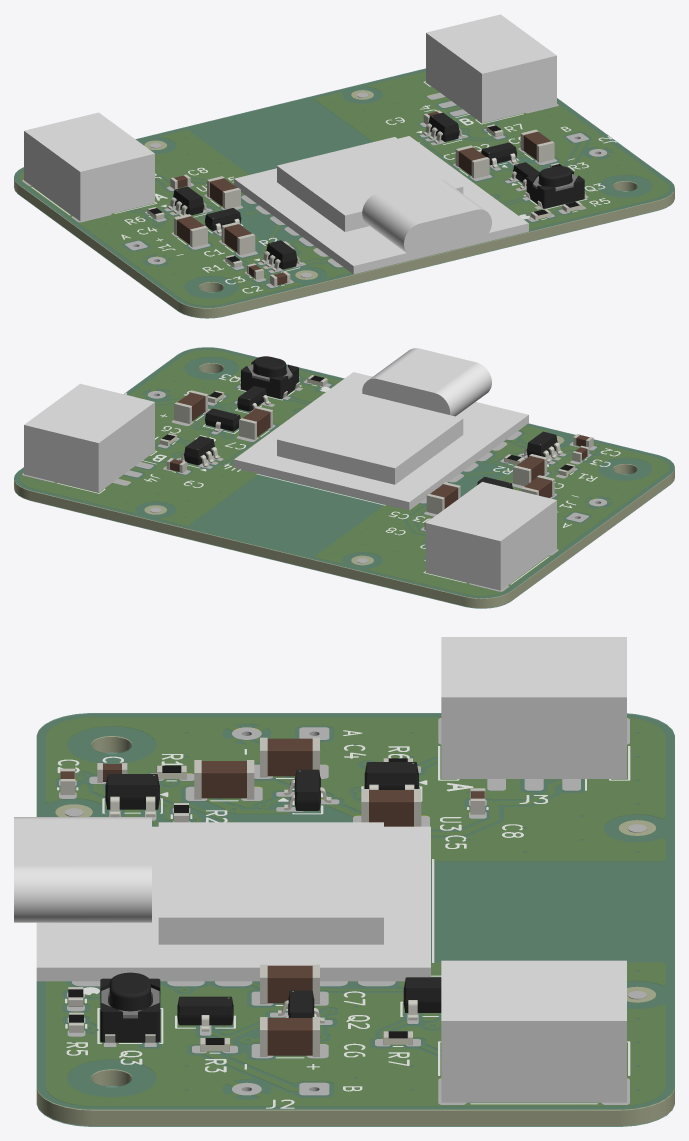
Rendered from board.glb.
The picture shows the model from 3 angles, top to bottom: view 1: azimuth 30°, elevation 25°; view 2: azimuth 150°, elevation 25°; view 3: azimuth 270°, elevation 25°; orthographic projection. The views are drawn at different scales.
Visible parts, largest first — view 1: =>[0:1:1:23], =>[0:1:1:18]_983e8c, =>[0:1:1:25]_ff1fff, =>[0:1:1:11]_60c58a, =>[0:1:1:11]_9c7a88, =>[0:1:1:17], =>[0:1:1:25]_ccdd4a, =>[0:1:1:17]_1_6bb7ca, =>[0:1:1:17]_458f98, =>[0:1:1:17]_1_f07208, =>[0:1:1:17]_1_3fa2e3, =>[0:1:1:11]_79b944 (+13 smaller); view 2: =>[0:1:1:23], =>[0:1:1:18]_983e8c, =>[0:1:1:25]_ff1fff, =>[0:1:1:11]_60c58a, =>[0:1:1:11]_9c7a88, =>[0:1:1:25]_fe5820, =>[0:1:1:17]_458f98, =>[0:1:1:17]_1_6bb7ca, =>[0:1:1:17]_21ce64, =>[0:1:1:17]_1_323e83, =>[0:1:1:17]_1_3fa2e3, =>[0:1:1:17] (+15 smaller); view 3: =>[0:1:1:23], =>[0:1:1:18]_983e8c, =>[0:1:1:25]_ff1fff, =>[0:1:1:11]_60c58a, =>[0:1:1:11]_9c7a88, =>[0:1:1:17]_1, =>[0:1:1:17]_62470e, =>[0:1:1:17]_1_6bb7ca, =>[0:1:1:17]_458f98, =>[0:1:1:25]_e506cf, =>[0:1:1:11]_7ce479, =>[0:1:1:11]_5dd575 (+14 smaller).
Boxes of the visible parts, box(x1,y1,x2,y2) form: =>[0:1:1:23]: box(14, 68, 674, 307); =>[0:1:1:18]_983e8c: box(20, 72, 668, 305); =>[0:1:1:25]_ff1fff: box(14, 69, 674, 308); =>[0:1:1:11]_60c58a: box(277, 137, 462, 215); =>[0:1:1:11]_9c7a88: box(234, 136, 528, 265); =>[0:1:1:17]: box(24, 131, 139, 221); =>[0:1:1:25]_ccdd4a: box(224, 201, 657, 315); =>[0:1:1:17]_1_6bb7ca: box(442, 14, 556, 69); =>[0:1:1:17]_458f98: box(24, 116, 138, 171); =>[0:1:1:17]_1_f07208: box(498, 55, 556, 119); =>[0:1:1:17]_1_3fa2e3: box(426, 33, 481, 122); =>[0:1:1:11]_79b944: box(404, 209, 491, 256); =>[0:1:1:23]: box(14, 347, 674, 598); =>[0:1:1:18]_983e8c: box(20, 350, 668, 595); =>[0:1:1:25]_ff1fff: box(14, 348, 674, 598); =>[0:1:1:11]_60c58a: box(277, 389, 462, 468); =>[0:1:1:11]_9c7a88: box(234, 372, 528, 502); =>[0:1:1:25]_fe5820: box(31, 491, 464, 606); =>[0:1:1:17]_458f98: box(442, 485, 556, 541); =>[0:1:1:17]_1_6bb7ca: box(24, 383, 138, 439); =>[0:1:1:17]_21ce64: box(441, 527, 500, 590); =>[0:1:1:17]_1_323e83: box(24, 425, 82, 488); =>[0:1:1:17]_1_3fa2e3: box(98, 402, 154, 492); =>[0:1:1:17]: box(500, 500, 556, 590); =>[0:1:1:23]: box(36, 713, 674, 1109); =>[0:1:1:18]_983e8c: box(46, 718, 664, 1105); =>[0:1:1:25]_ff1fff: box(37, 714, 674, 1110); =>[0:1:1:11]_60c58a: box(158, 822, 383, 917); =>[0:1:1:11]_9c7a88: box(36, 826, 430, 967); =>[0:1:1:17]_1: box(441, 1021, 626, 1102); =>[0:1:1:17]_62470e: box(441, 697, 626, 778); =>[0:1:1:17]_1_6bb7ca: box(441, 973, 626, 1020); =>[0:1:1:17]_458f98: box(441, 637, 626, 684); =>[0:1:1:25]_e506cf: box(93, 1110, 618, 1125); =>[0:1:1:11]_7ce479: box(14, 865, 151, 922); =>[0:1:1:11]_5dd575: box(14, 820, 151, 865).
Bounding box in the file's own units: 0.05 × 0.00587 × 0.0352.
